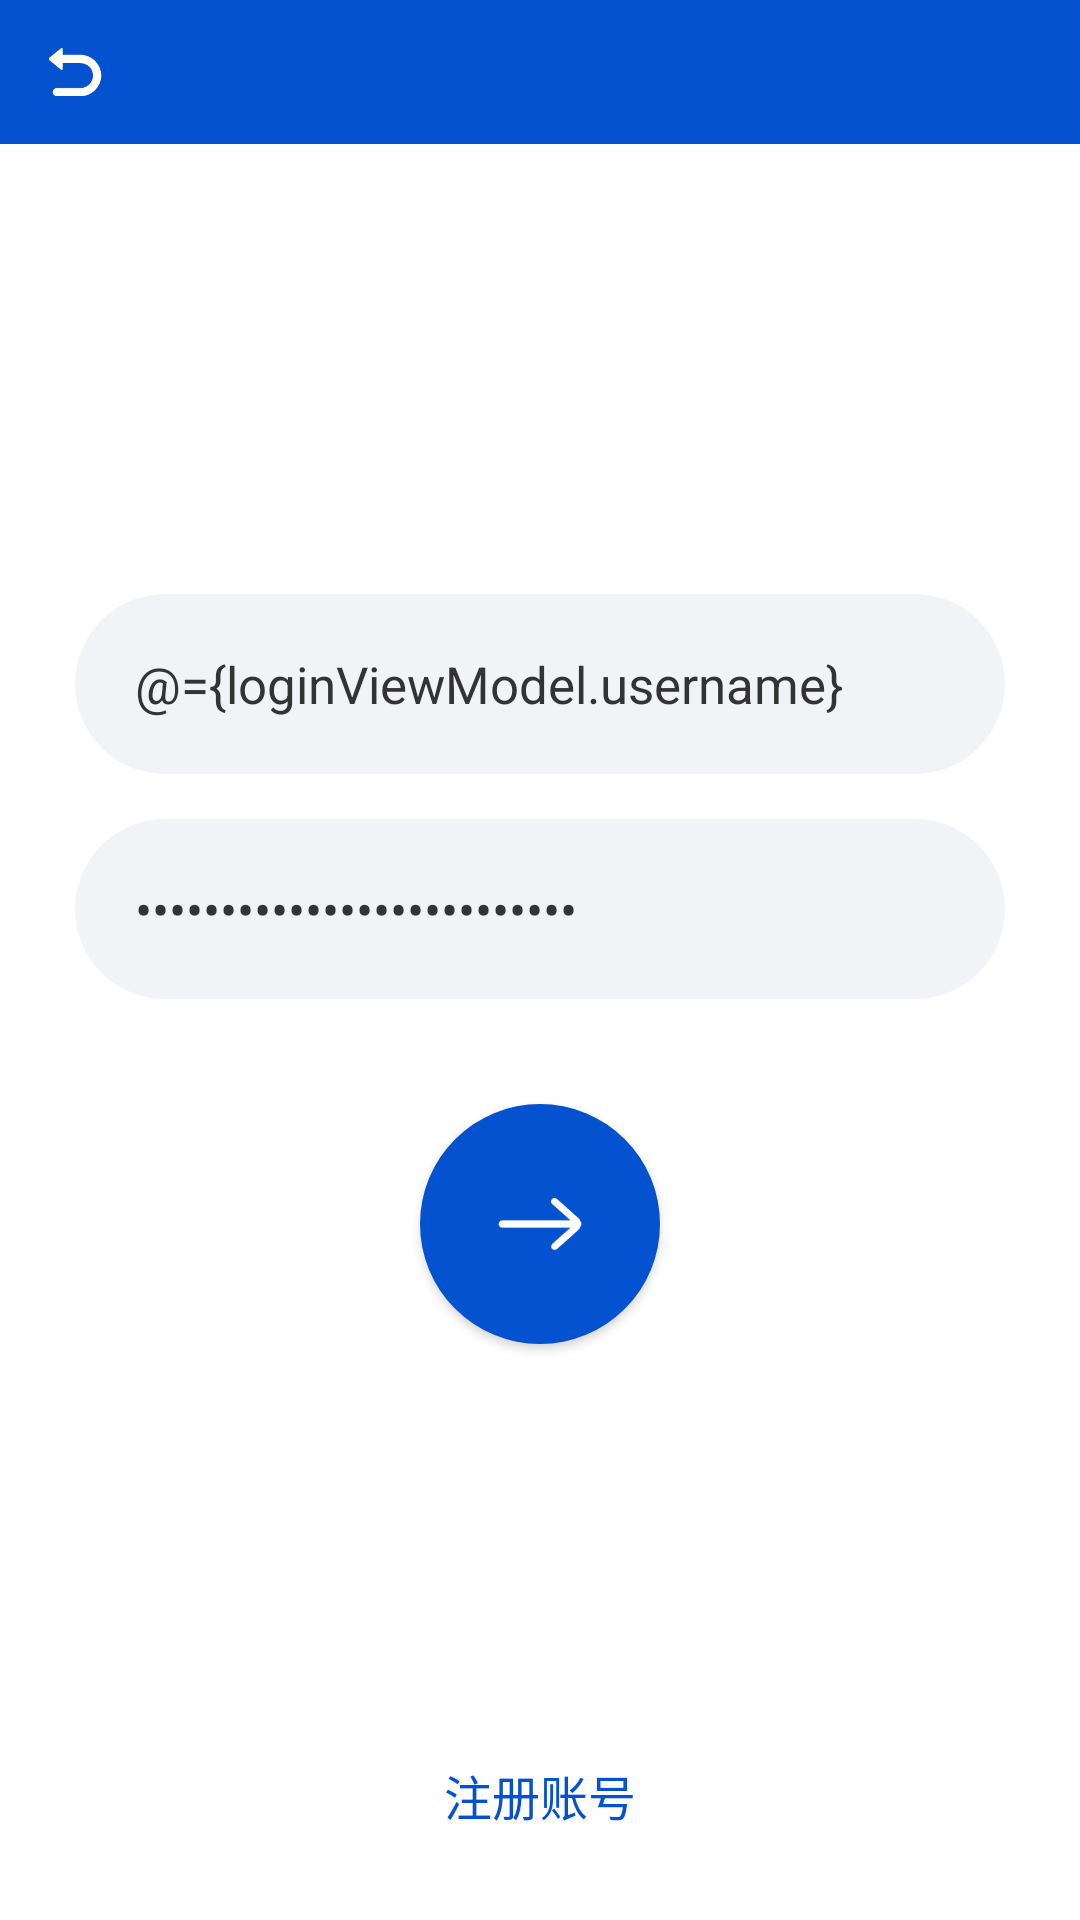

Screen size 1080px x 1920px. Icon name, then its center in pixels as [x,y]:
back arrow: [75,72]
